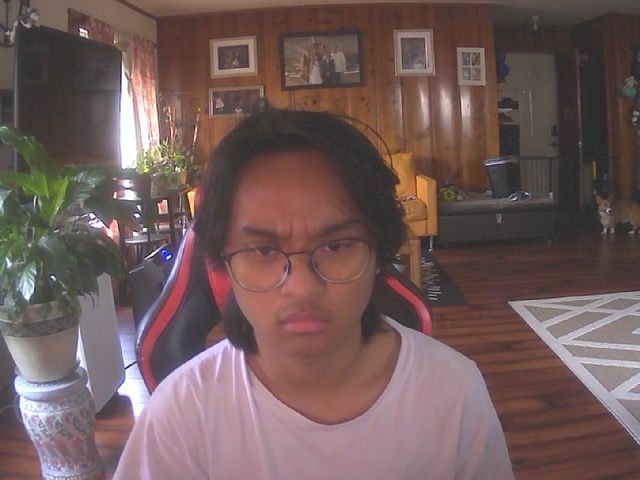anger: (213, 118, 396, 358)
